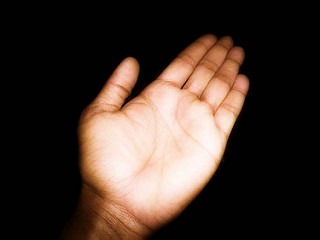palm: (105, 87, 214, 210)
